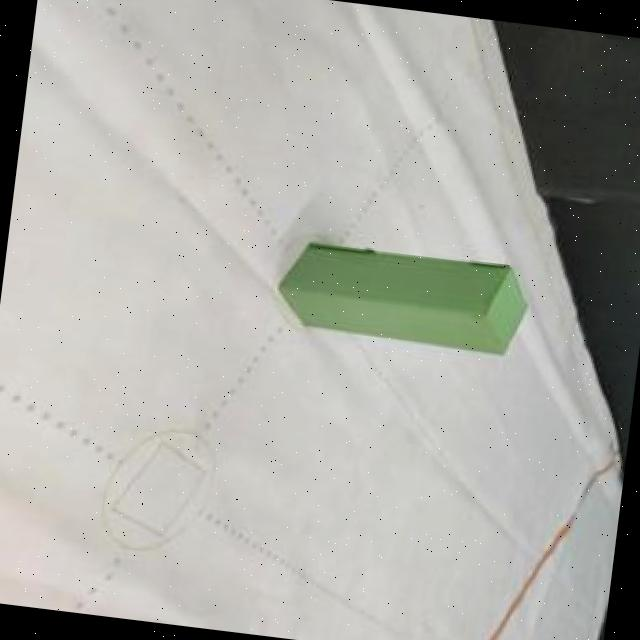greenbox: (269, 238, 532, 356)
